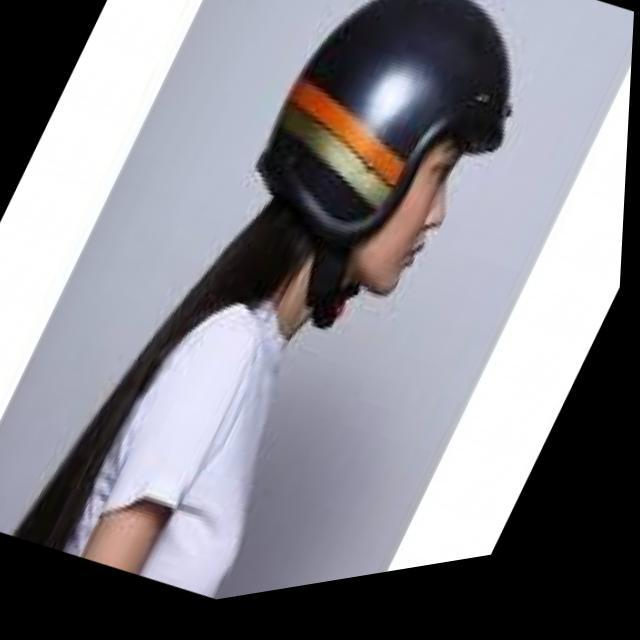Helmet: (244, 0, 528, 307)
